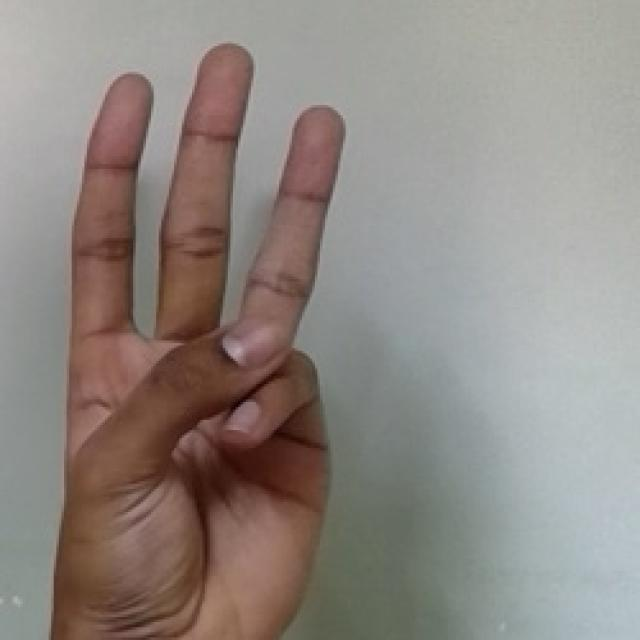Numeric-6: (48, 33, 350, 623)
